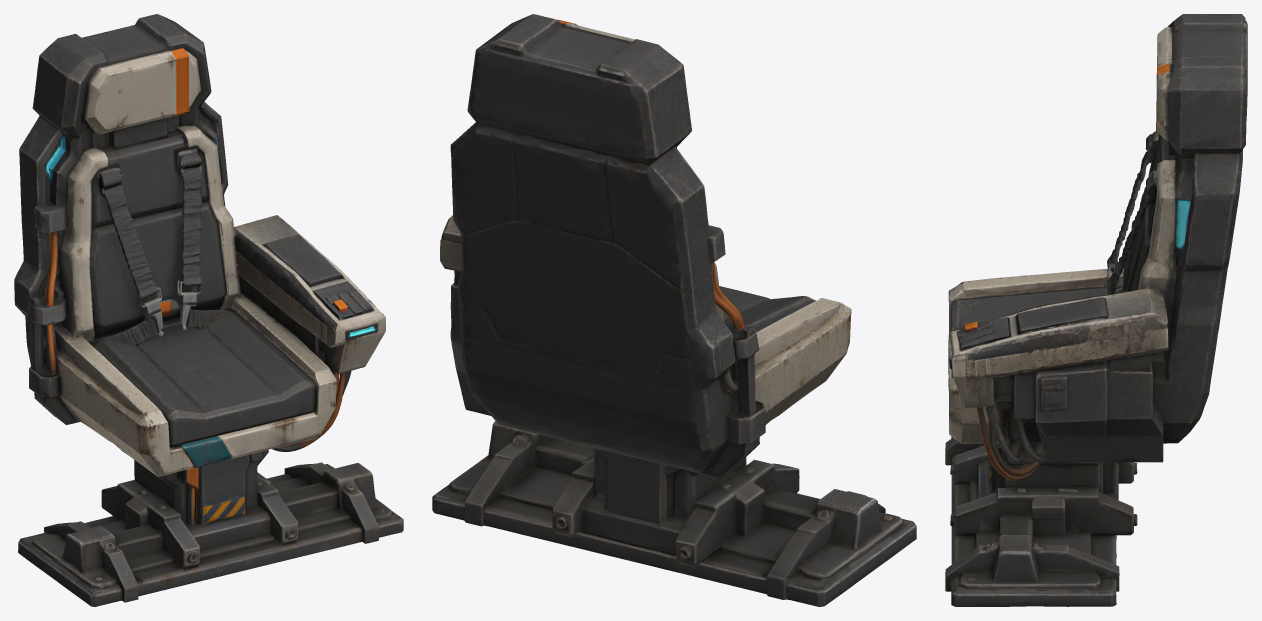
File: chair_ops.glb
3 renders of one model, left to right at view 1: azimuth 30°, elevation 25°; view 2: azimuth 150°, elevation 25°; view 3: azimuth 270°, elevation 25°, orthographic. The views are drawn at different scales.
Visible parts, largest first — view 1: tripo_node_d559dfa1-9e52-4835-adf2-5dd303392c68; view 2: tripo_node_d559dfa1-9e52-4835-adf2-5dd303392c68; view 3: tripo_node_d559dfa1-9e52-4835-adf2-5dd303392c68.
Boxes of the visible parts, x1,y1,x2,y2 form: tripo_node_d559dfa1-9e52-4835-adf2-5dd303392c68: [14, 14, 403, 606]; tripo_node_d559dfa1-9e52-4835-adf2-5dd303392c68: [432, 14, 916, 606]; tripo_node_d559dfa1-9e52-4835-adf2-5dd303392c68: [945, 14, 1247, 606].
Bounding box in the file's own units: 0.7336 × 1 × 0.5695.
1 material, 1 textured.
